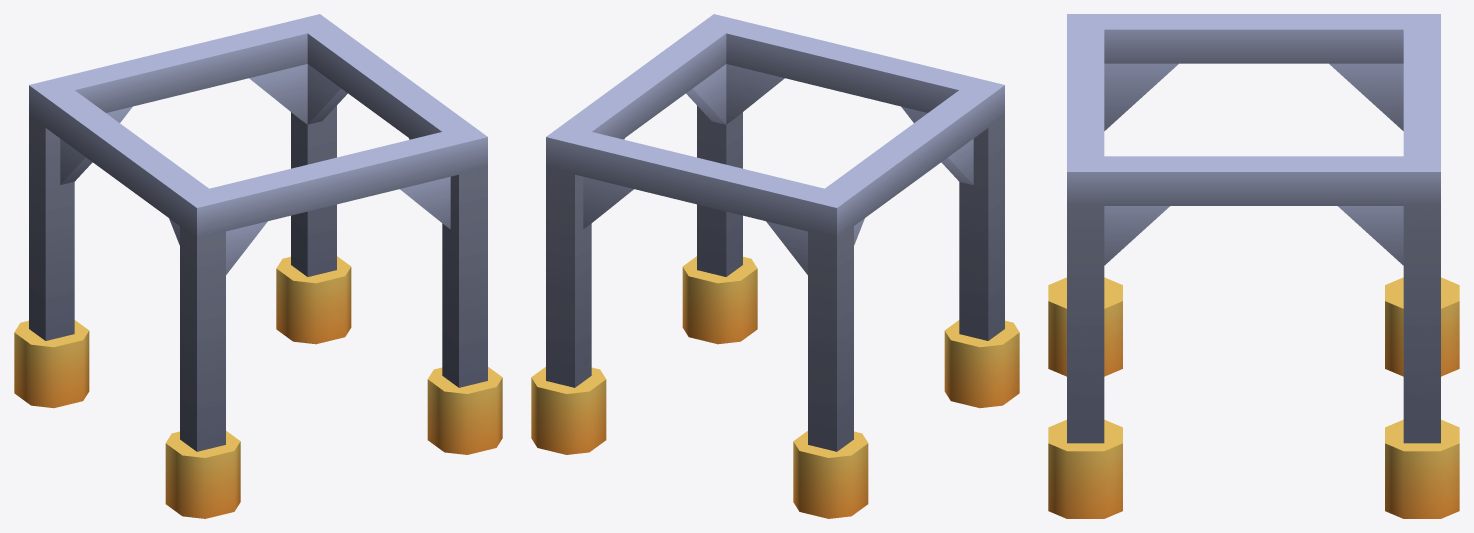
Rendered from kenney-space-station-structure-barrier.glb.
3 renders of one model, left to right at view 1: azimuth 30°, elevation 25°; view 2: azimuth 150°, elevation 25°; view 3: azimuth 270°, elevation 25°, orthographic. The views are drawn at different scales.
Visible parts, largest first — view 1: Group (×14); view 2: Group (×14); view 3: Group (×11).
Boxes of the visible parts, x1,y1,x2,y2 form: Group (×14): (14, 14, 502, 518); Group (×14): (531, 14, 1019, 518); Group (×11): (1048, 14, 1459, 518).
Bounding box in the file's own units: 1.1 × 1 × 1.1.
Materials: 1 (1 with a texture image).
